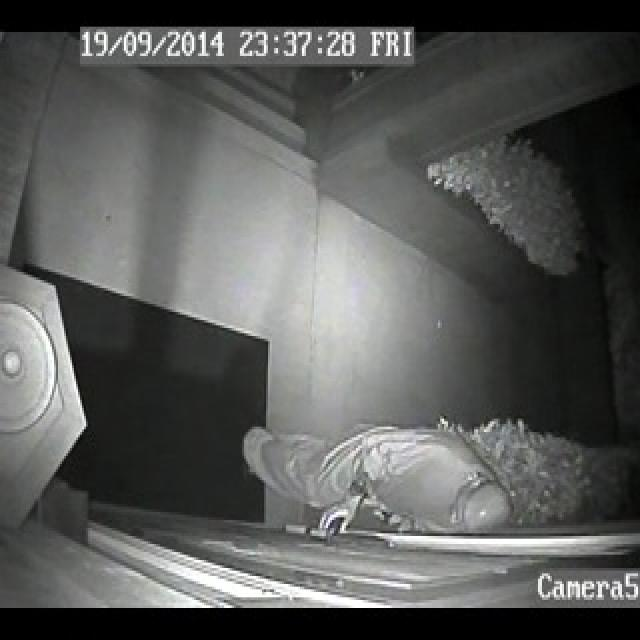thief: (232, 403, 522, 529)
